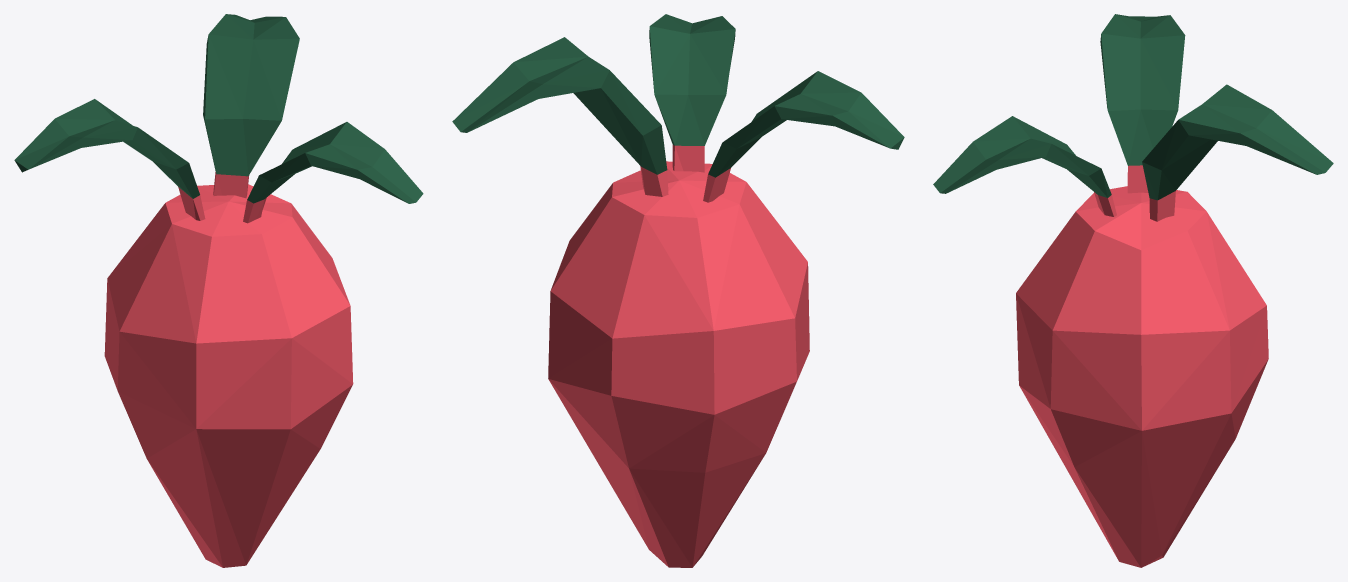
Rendered from Beetroot_M.fbx.
3 views of the same model, side by side, from view 1: azimuth 30°, elevation 25°; view 2: azimuth 150°, elevation 25°; view 3: azimuth 270°, elevation 25° (orthographic). The views are drawn at different scales.
Parts seen in each view (by area): view 1: Beetroot_M; view 2: Beetroot_M; view 3: Beetroot_M.
Part boxes in pixels (x1,y1,x2,y2): Beetroot_M: (14, 14, 423, 567); Beetroot_M: (452, 14, 904, 567); Beetroot_M: (933, 14, 1333, 567).
Bounding box in the file's own units: 24.65 × 34.5 × 25.81.
